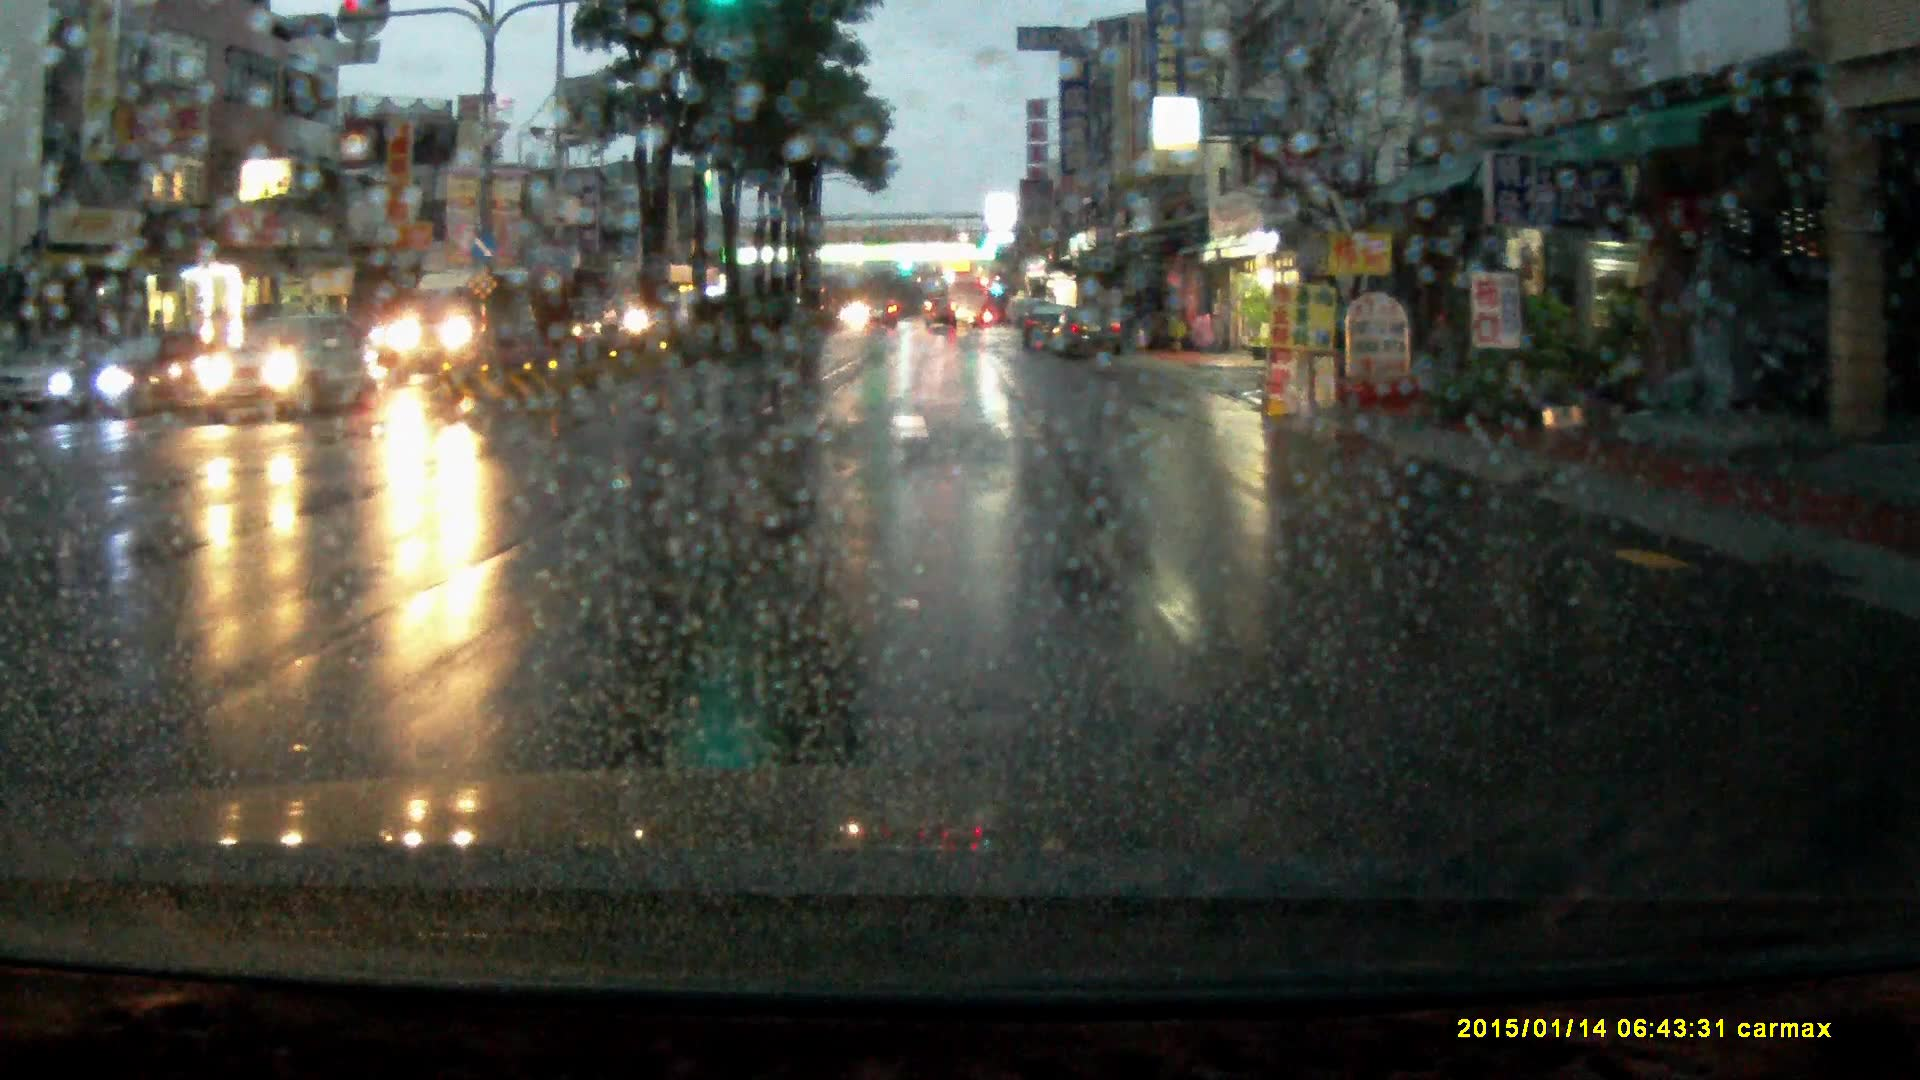vehicle: (193, 319, 384, 426), (388, 264, 529, 390), (36, 336, 185, 422), (5, 336, 102, 414), (1054, 307, 1127, 363), (1022, 303, 1072, 353), (948, 273, 988, 328), (927, 297, 959, 334), (865, 299, 899, 331)
